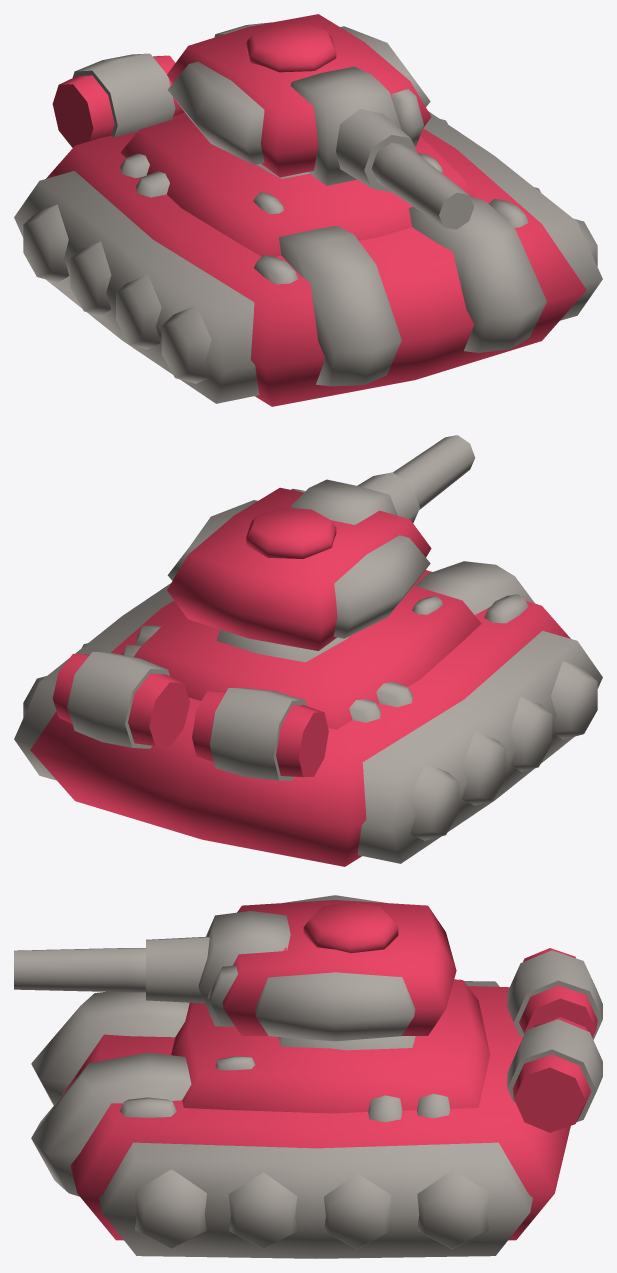
File: tank.glb
3 renders of one model, top to bottom at view 1: azimuth 30°, elevation 25°; view 2: azimuth 150°, elevation 25°; view 3: azimuth 270°, elevation 25°, orthographic.
Parts seen in each view (by area): view 1: Tank, Turret; view 2: Tank, Turret; view 3: Tank, Turret.
Part boxes in pixels (bbox=[...]): Tank: bbox=[14, 22, 602, 406]; Turret: bbox=[167, 14, 474, 229]; Tank: bbox=[14, 561, 602, 866]; Turret: bbox=[167, 435, 475, 650]; Tank: bbox=[31, 948, 602, 1258]; Turret: bbox=[14, 895, 456, 1041].
Bounding box in the file's own units: 0.401 × 0.2345 × 0.4919.
